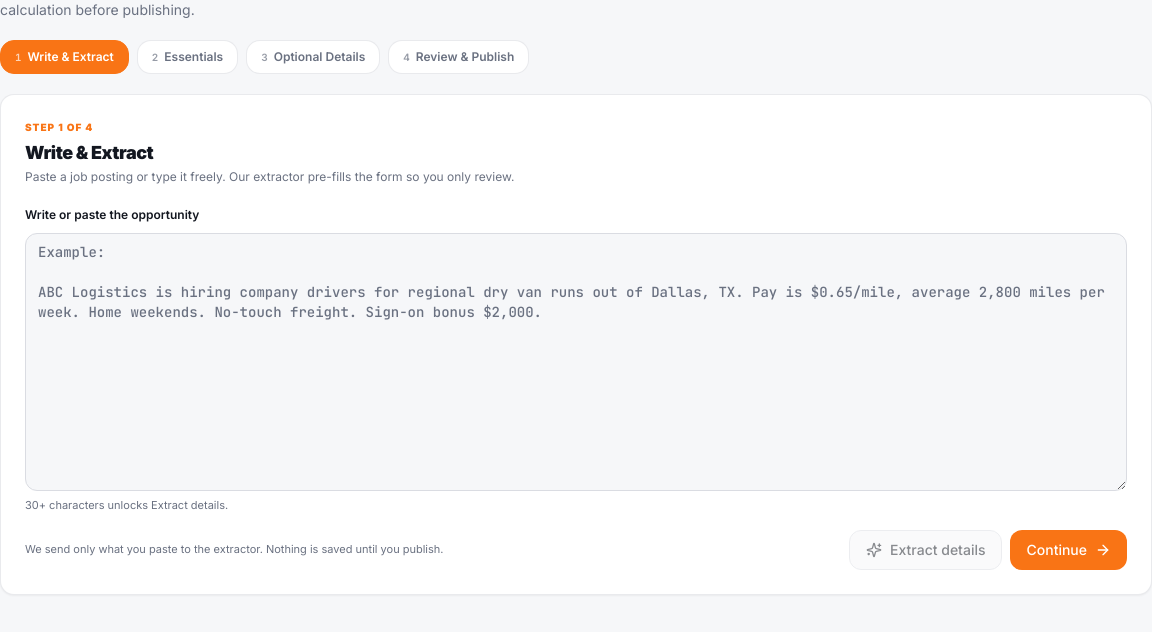
Test: Phase 1O-A — pay-model conditional inputs › Flat Weekly reveals its required inputs and hides every other pay-model input
The width and height of the screenshot is (1152, 632).
Click the tab "2Essentials" at (188, 57), box [137,40,238,74]
(page scrolled)
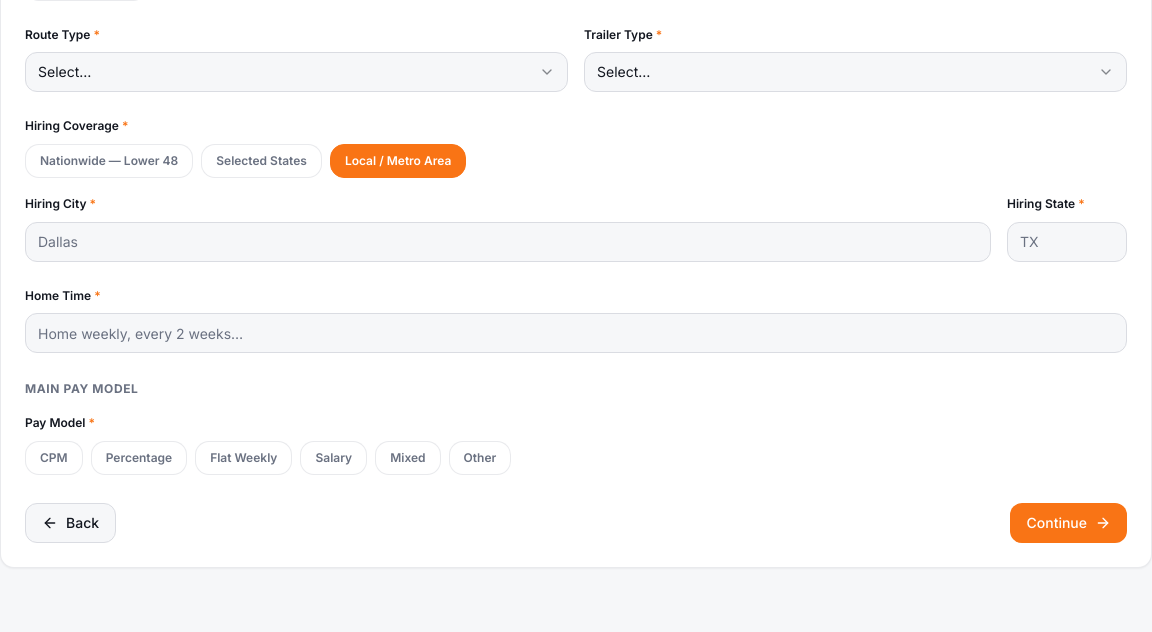
Click the button "Flat Weekly" at (244, 458), box [195,441,292,475]
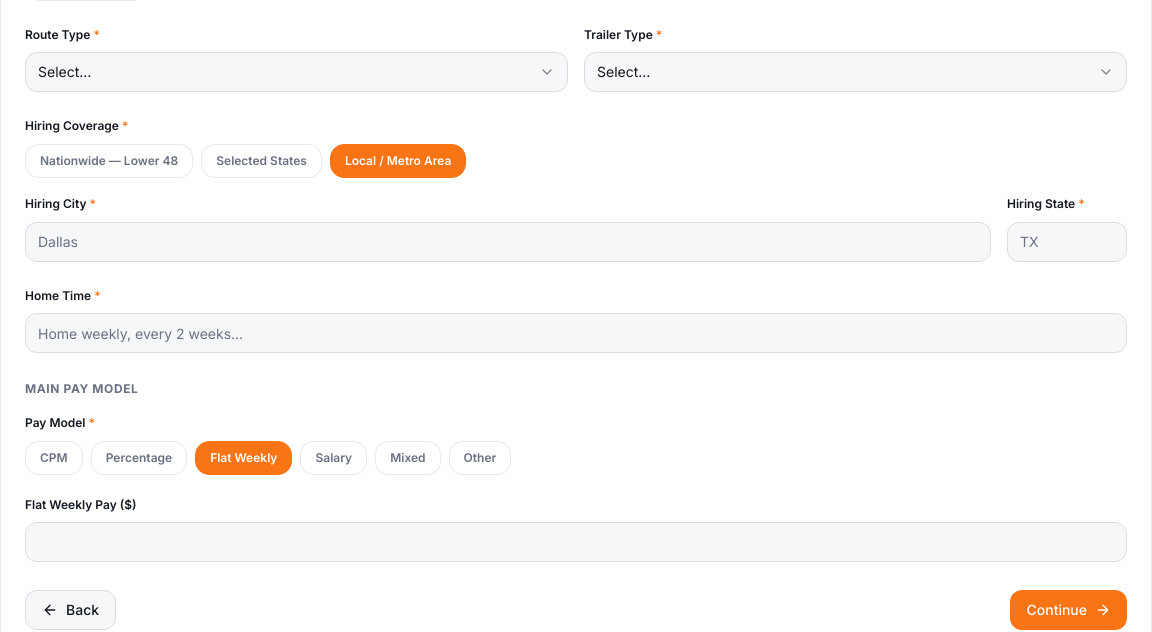
Result: the number field named "Flat Weekly Pay ($)" is shown at [25,522,1127,562]
